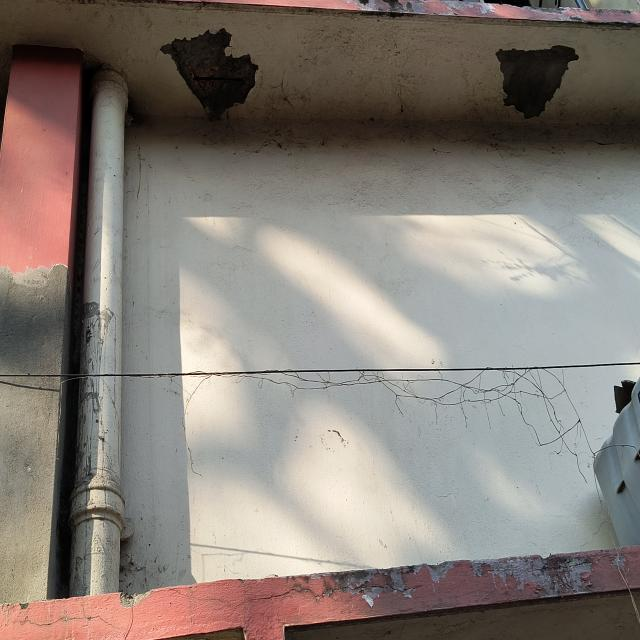Crack: (164, 582, 420, 607), (9, 606, 126, 633)
Paint Peeling: (432, 547, 631, 596), (279, 565, 431, 585)
Spalling: (160, 28, 258, 119), (496, 45, 578, 119)
pollution -moisture induced blackening: (0, 377, 65, 604), (335, 0, 640, 32), (0, 264, 68, 375)
